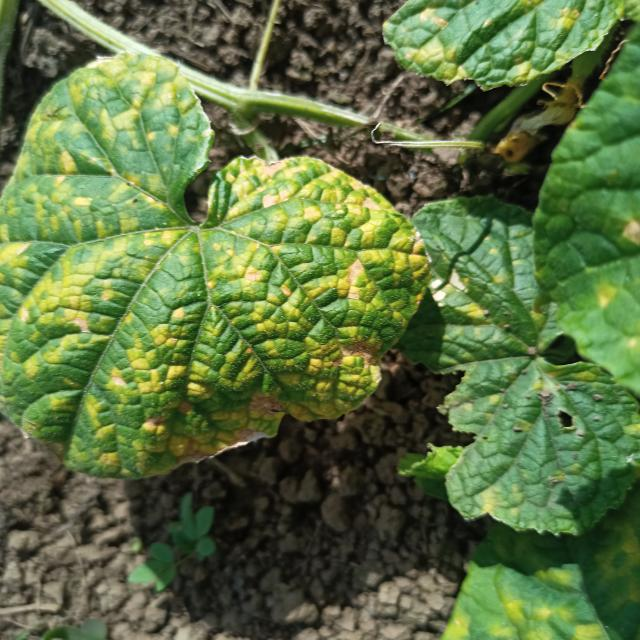disease_cucumber: (2, 63, 410, 480)
